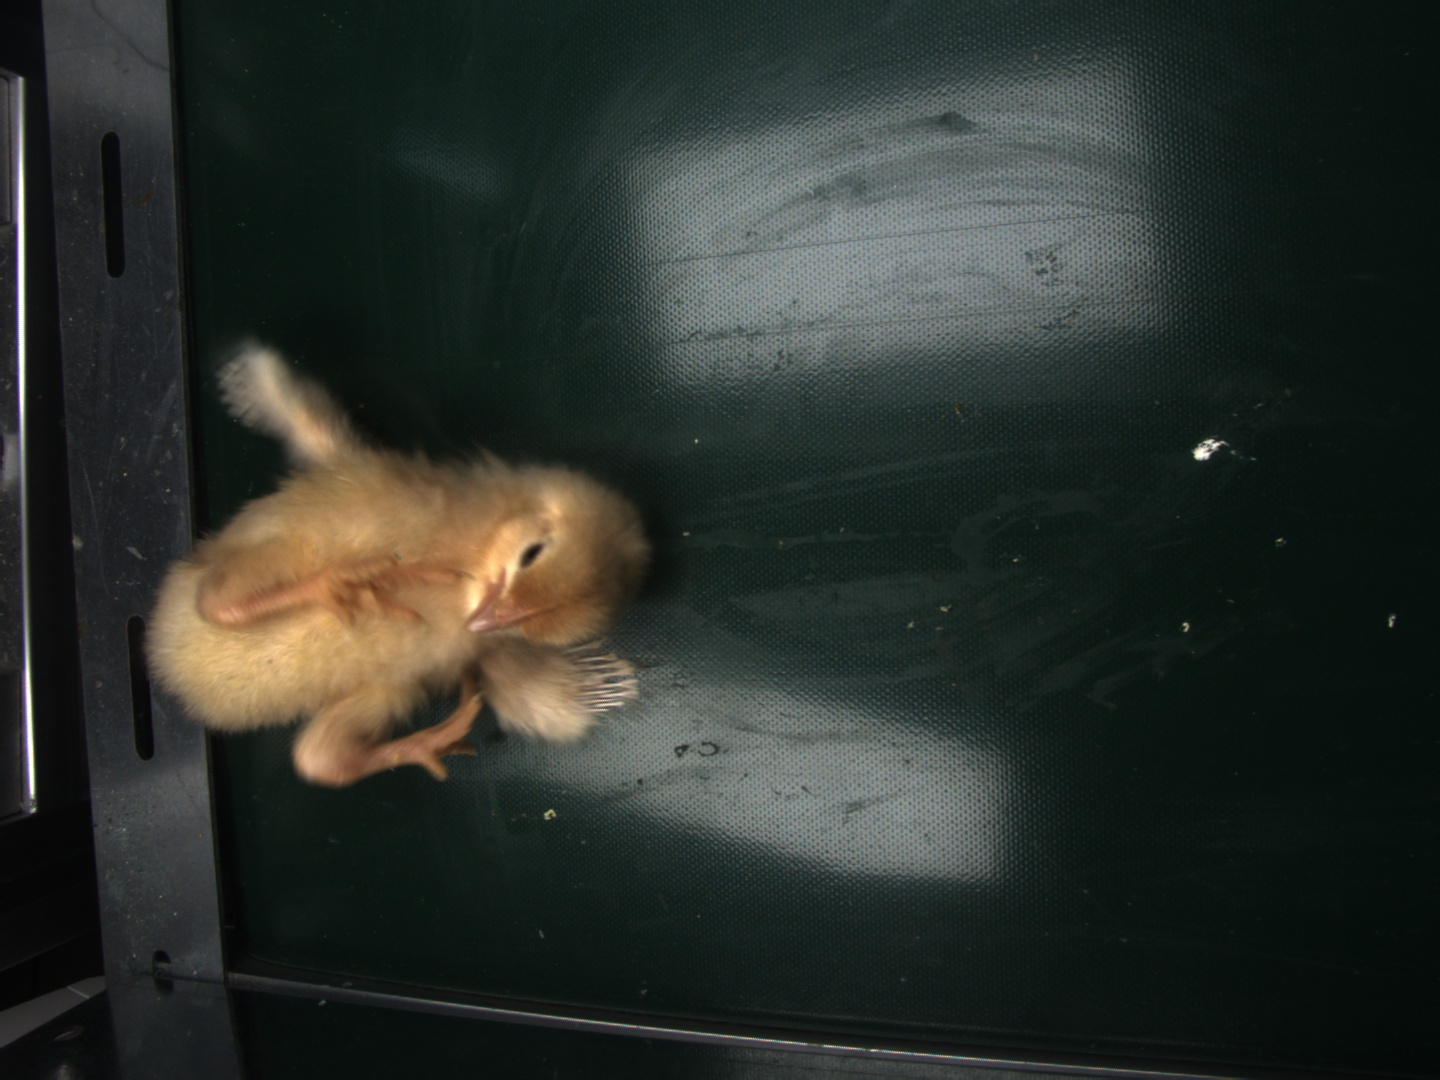female: (571, 653, 639, 719)
